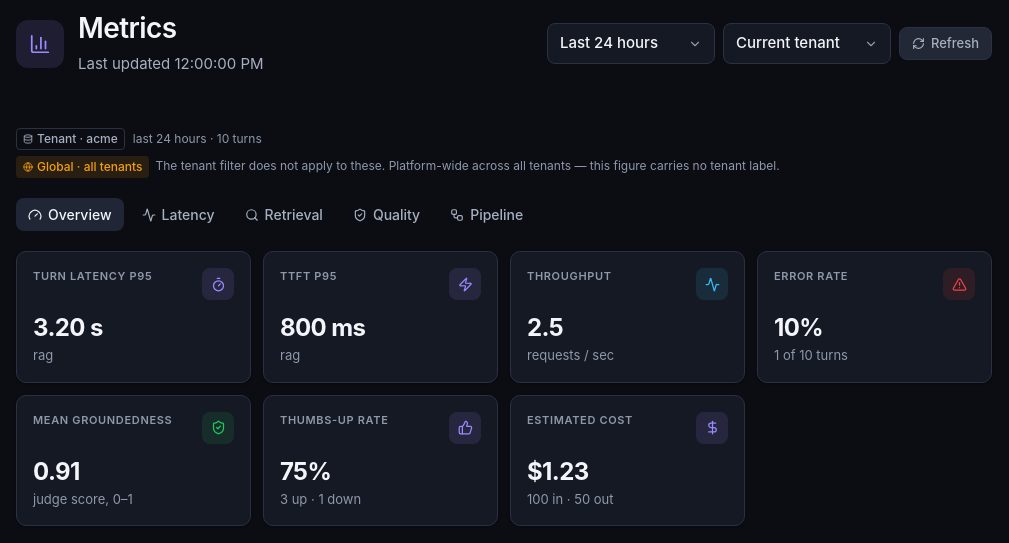
it: MetricsTab › the trust contract above the panels › drops the platform caveat on the section that has no Prometheus widgets
Click the button "Quality" at (387, 215), box 341,198 -> 432,231
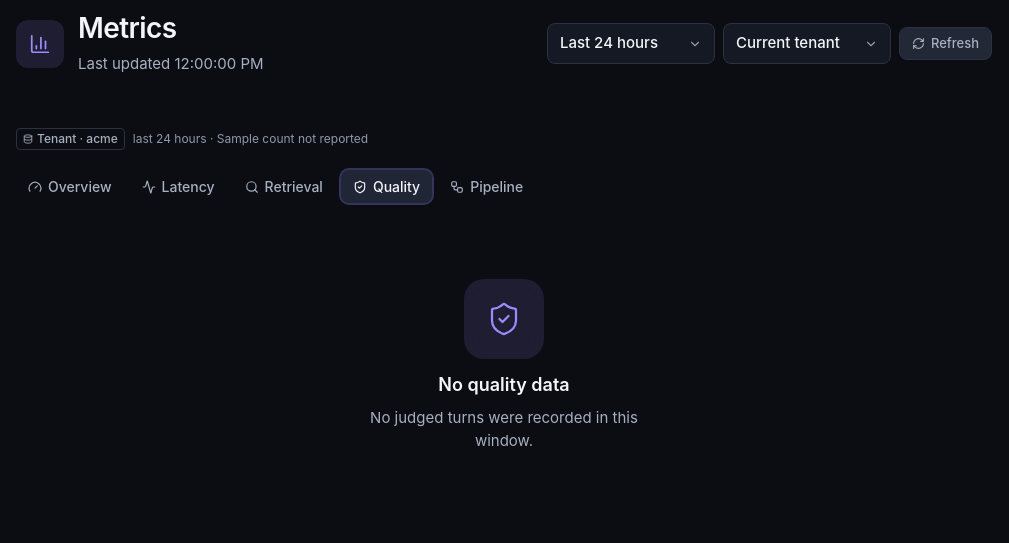
Now the text "Global · all tenants" is gone
